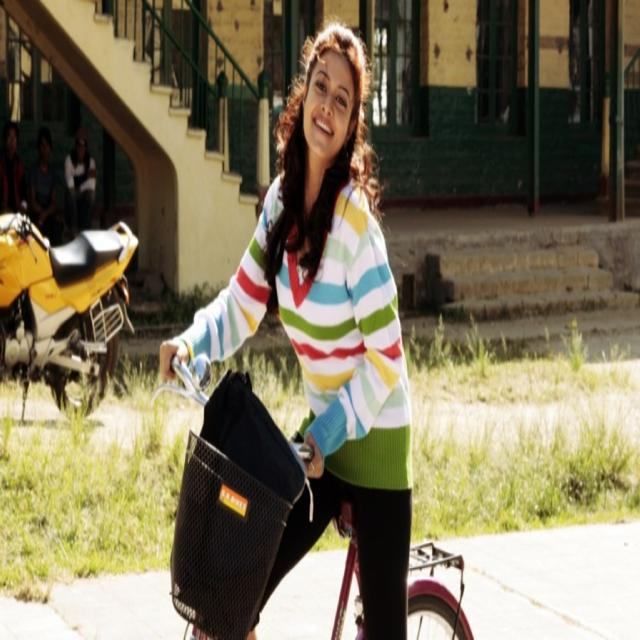Motorbikes: (1, 178, 138, 445)
